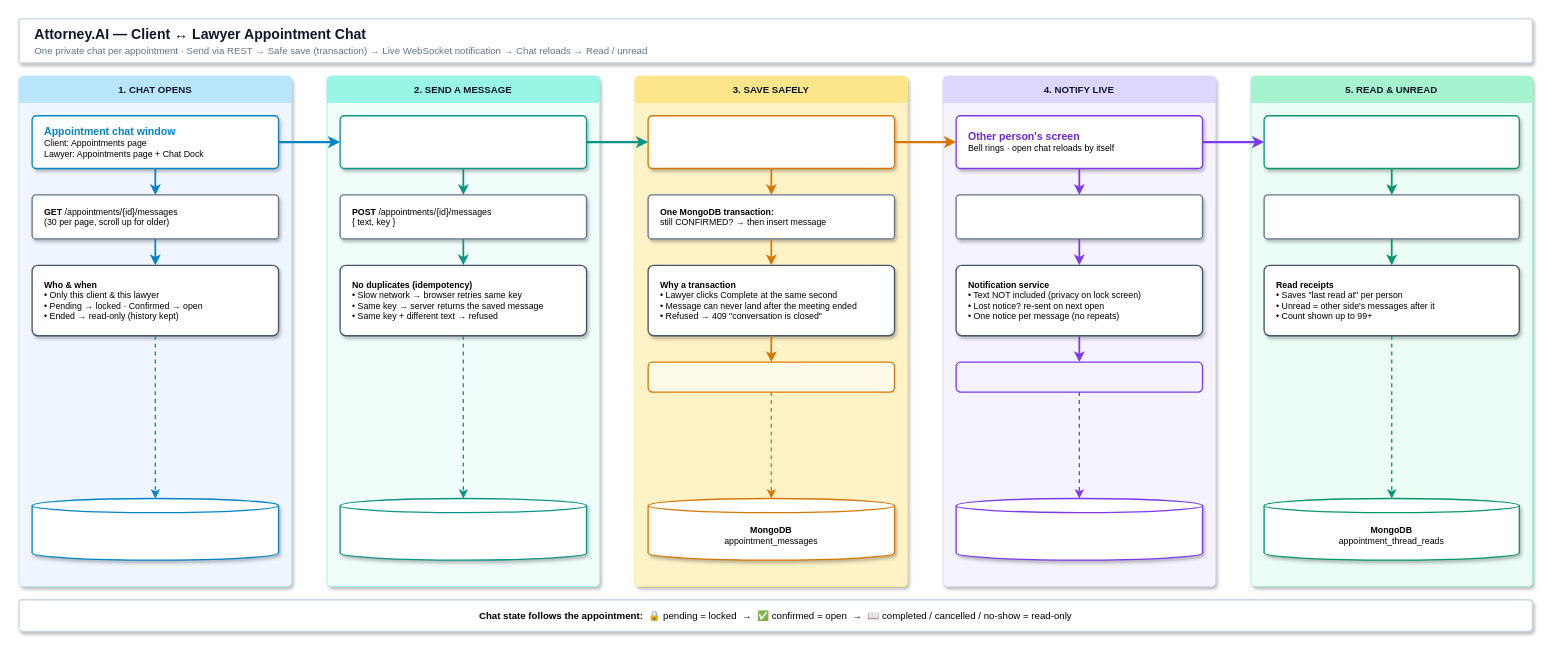
This 1554x654 diagram has some shape labels left out. Here are the shapes that lost their labels. From the top down, the centre of each, then its label:
At (464,143): "Type & press Send 1–2000 characters Browser makes a unique message key".
At (772,143): "Message service appointment_message_service.py".
At (1392,143): "Lawyer Chat Dock Unread count on each chat Up to 3 floating chats".
At (1080,217): "WebSocket /ws/notifications (Redis pub/sub → right user)".
At (1392,217): "POST /appointment-threads/{id}/read GET /appointment-threads/summary".
At (771,376): "Saved · notify: pending".
At (1079,376): "notify: sent".
At (156,530): "MongoDB appointments (status)".
At (464,530): "MongoDB unique index on message key".
At (1080,530): "MongoDB notifications Redis pub/sub".
